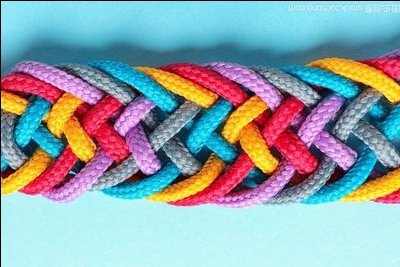9/可回收垃圾/绳子: (1, 49, 400, 206)
